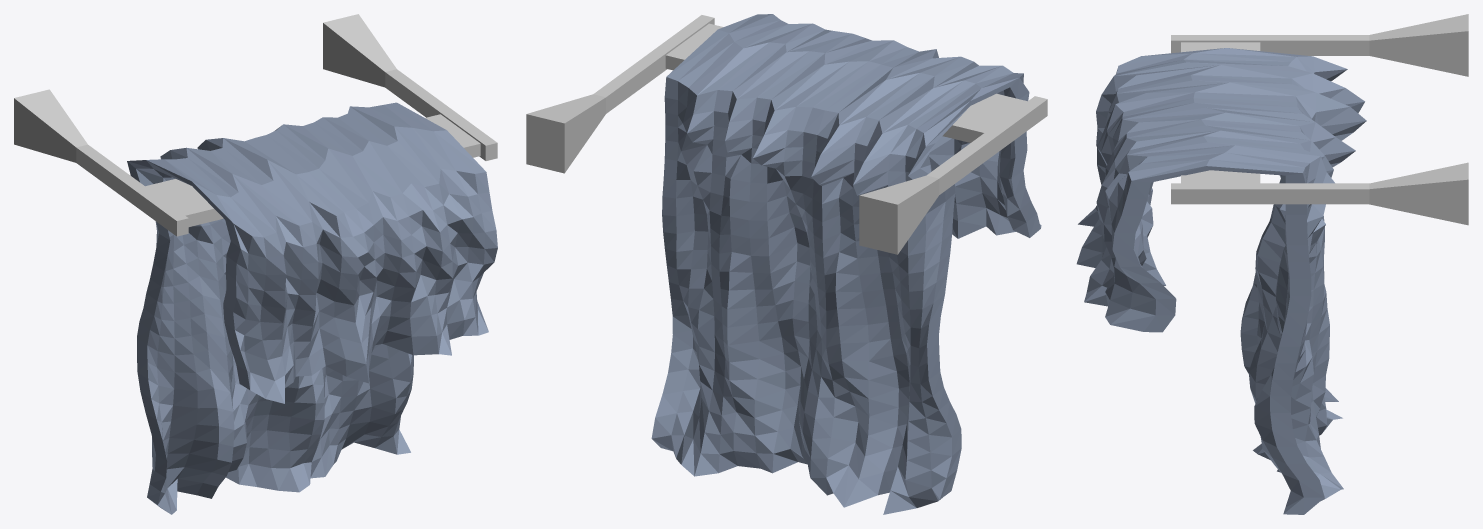
File: sh-bs0-towel3.glb
3 views of the same model, side by side, from view 1: azimuth 30°, elevation 25°; view 2: azimuth 150°, elevation 25°; view 3: azimuth 270°, elevation 25° (orthographic). The views are drawn at different scales.
Parts seen in each view (by area): view 1: towel_beneath_window_Plane.013, towel_bar_Cube.016; view 2: towel_beneath_window_Plane.013, towel_bar_Cube.016; view 3: towel_beneath_window_Plane.013, towel_bar_Cube.016.
Boxes of the visible parts, x1,y1,x2,y2 form: towel_beneath_window_Plane.013: [127, 102, 497, 514]; towel_bar_Cube.016: [14, 14, 497, 236]; towel_beneath_window_Plane.013: [651, 14, 1041, 514]; towel_bar_Cube.016: [526, 15, 1047, 254]; towel_beneath_window_Plane.013: [1076, 48, 1366, 514]; towel_bar_Cube.016: [1171, 14, 1468, 225].
Bounding box in the file's own units: 1 × 1 × 1.
